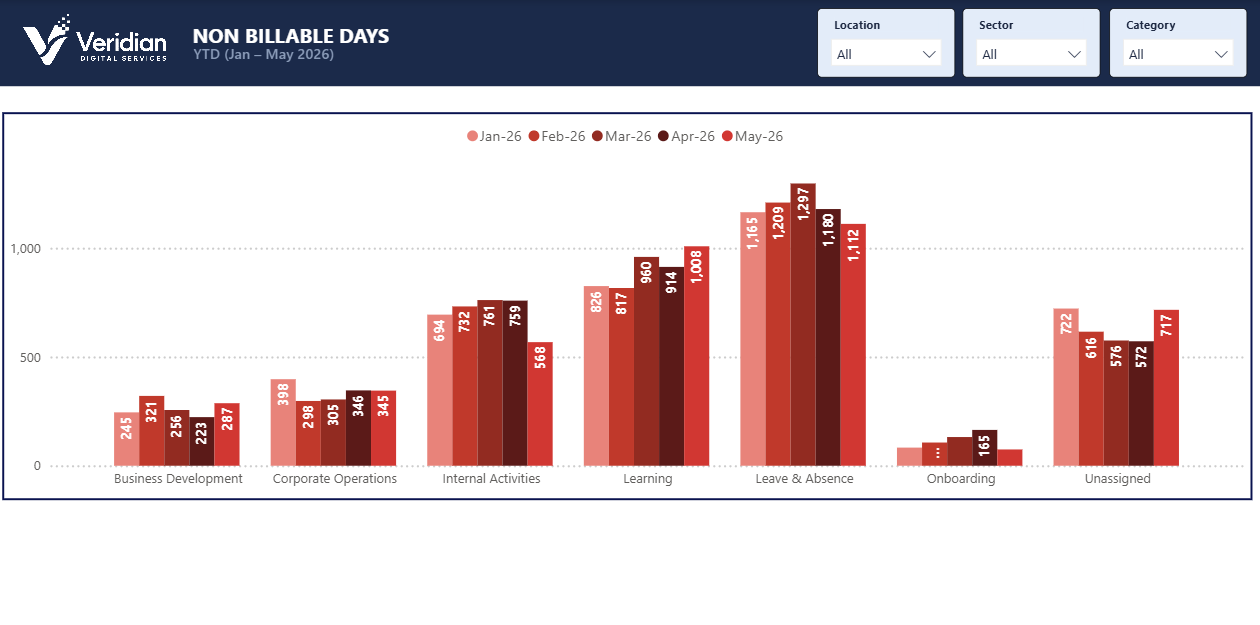

Layout of this report page (visuals, bound fields, positions):
{"tool":"powerbi","page":{"name":"Non-Billable Activities","canvas":[1180,700],"ordinal":7},"visuals":[{"type":"group","id":"g1","title":"Group 2","box":[0,0,1280,80],"z":0},{"type":"shape","box":[0,0,1280,80],"z":0,"group":"g1"},{"type":"textbox","box":[179.3,15.4,352,48],"z":1000},{"type":"cardVisual","fields":{"Data":["_Measures.YTD Label"]},"box":[173.3,17.4,192,64],"z":2000},{"type":"slicer","fields":{"Values":["Dim_Location.Reporting Location Group"]},"box":[763.4,8,128,64],"z":4000},{"type":"slicer","fields":{"Values":["Dim_Employee.Sector"]},"box":[899.4,8,128,64],"z":5000},{"type":"slicer","fields":{"Values":["Fact_Timesheet.Employee Category 2"]},"box":[1035.4,8,128,64],"z":6000},{"type":"clusteredColumnChart","title":"NON-BILLABLE DAYS BREAKUP","fields":{"Y":["_Measures.Total Non-Billable Days Abs"],"Category":["Dim_Activity.Activity Category"],"Series":["Dim_Date.Month Year"]},"box":[8,104,1160,360],"z":7000},{"type":"image","box":[21,4,144,64],"z":8000}]}

Visuals, with their boxes on the page's 1180x700 design canvas (x1, y1, x2, y2). These are canvas units, not pixel positions in the 1260x625 screenshot, which may show the page scaled, cropped or inside an application window:
"Group 2" group: (0,0,1280,80)
shape: (0,0,1280,80)
textbox: (179,15,531,63)
cardVisual - _Measures.YTD Label: (173,17,365,81)
slicer - Dim_Location.Reporting Location Group: (763,8,891,72)
slicer - Dim_Employee.Sector: (899,8,1027,72)
slicer - Fact_Timesheet.Employee Category 2: (1035,8,1163,72)
"NON-BILLABLE DAYS BREAKUP" clusteredColumnChart: (8,104,1168,464)
image: (21,4,165,68)
